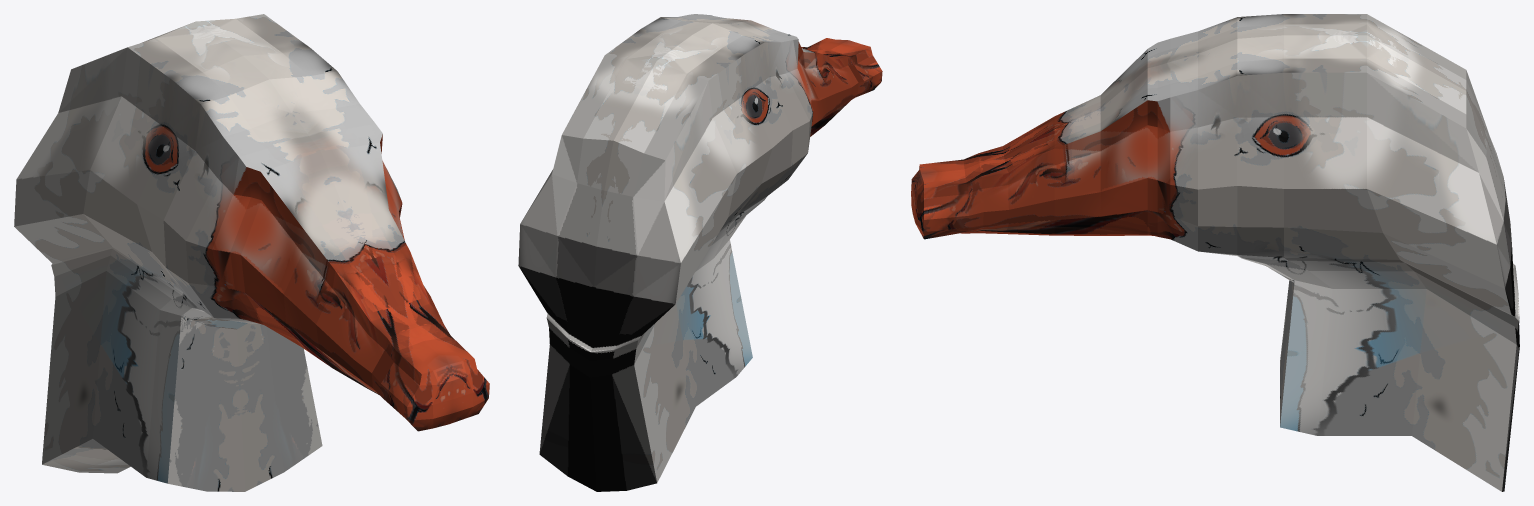
The model's file is gooseHead.glb.
3 renders of one model, left to right at view 1: azimuth 30°, elevation 25°; view 2: azimuth 150°, elevation 25°; view 3: azimuth 270°, elevation 25°, orthographic. The views are drawn at different scales.
Parts seen in each view (by area): view 1: Cube; view 2: Cube; view 3: Cube.
Part boxes in pixels (x1,y1,x2,y2): Cube: [14, 14, 489, 491]; Cube: [518, 14, 882, 491]; Cube: [911, 14, 1519, 491].
Bounding box in the file's own units: 2.63 × 6.06 × 7.45.
Materials: 1 (1 with a texture image).
